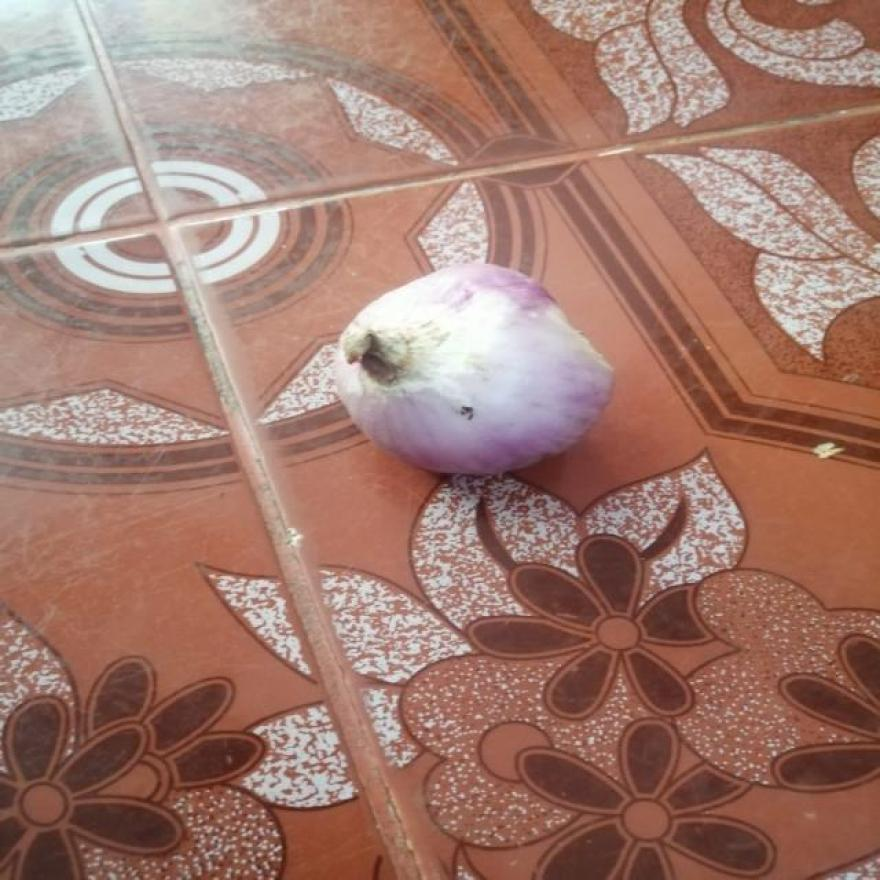Rotten: (558, 298, 614, 364)
